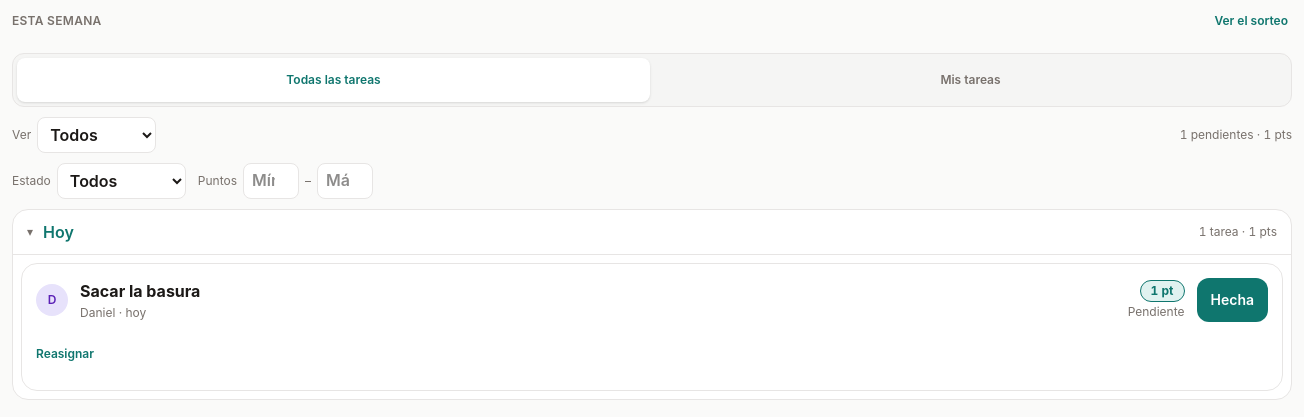
it: TareasClient — vista de administrador › the Mis tareas tab overrides and disables the generic member dropdown
Click the tab "Mis tareas". click: [970, 80]
box: [654,58,1287,102]
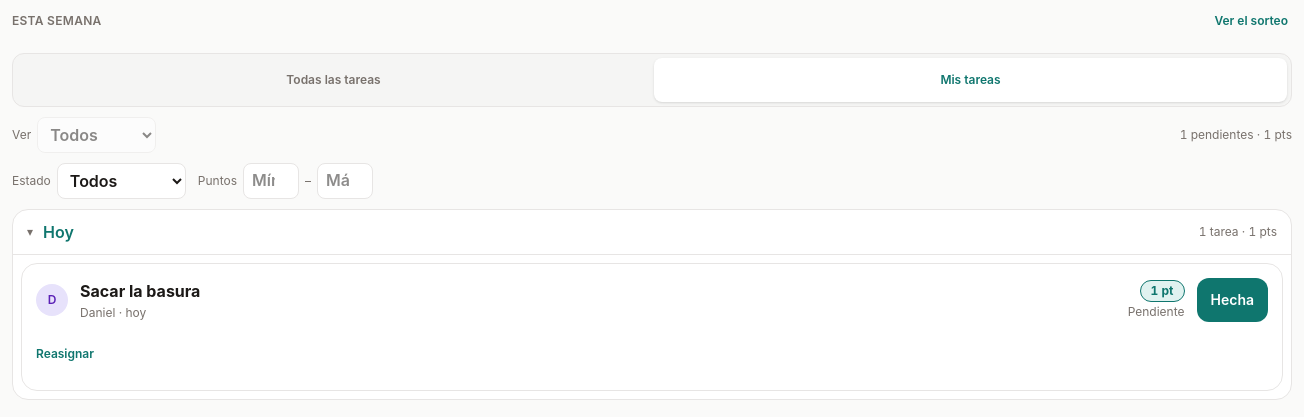
Check: the dropdown labelled "Ver" is disabled, box [37,117,156,153]
